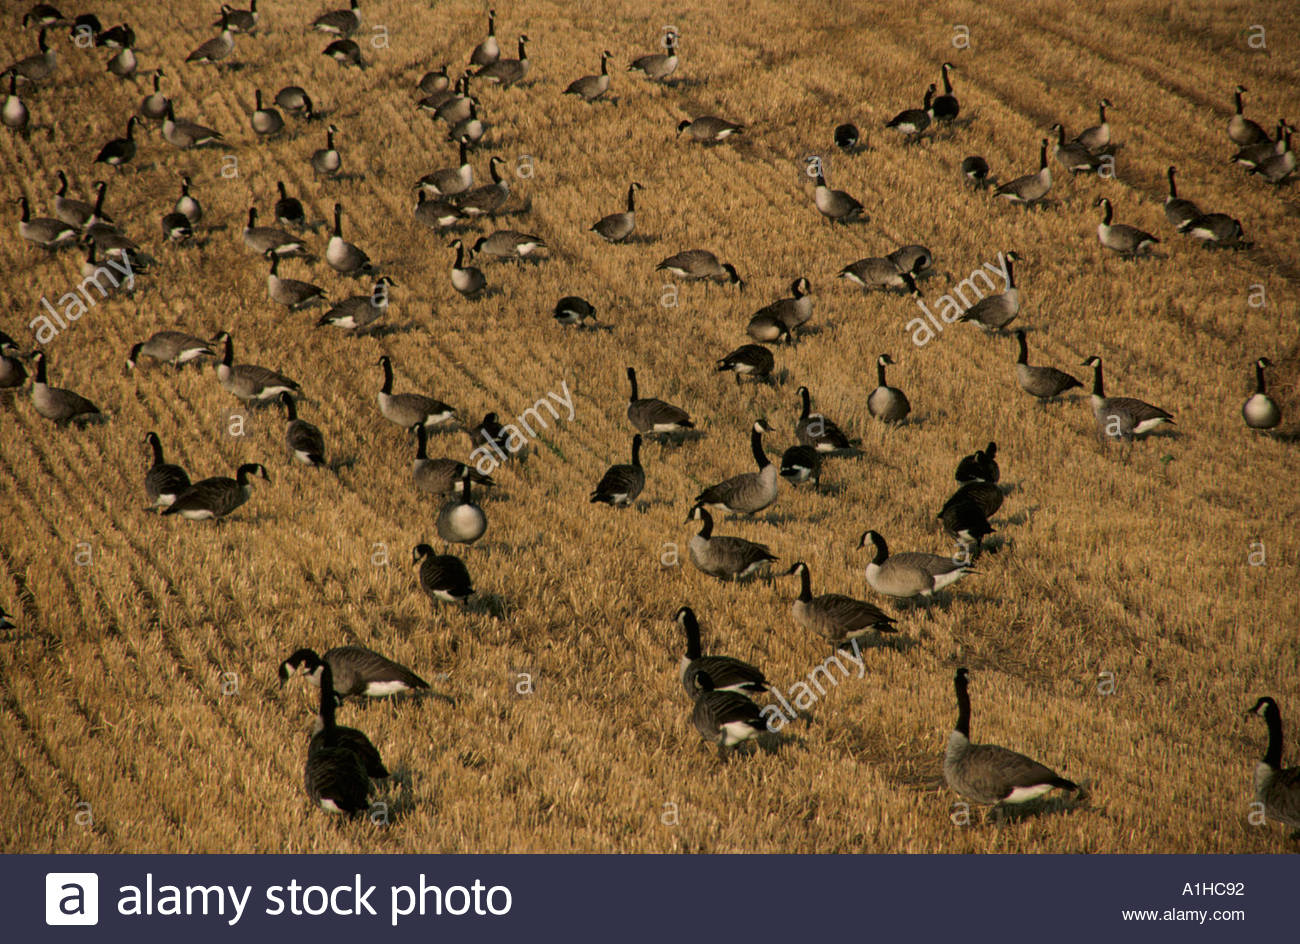goose: (934, 664, 1090, 826), (288, 660, 389, 820), (777, 560, 901, 654), (270, 643, 436, 704), (670, 604, 774, 697), (1079, 352, 1179, 448), (852, 529, 973, 607), (691, 417, 780, 517), (1239, 695, 1300, 834), (681, 674, 774, 763), (209, 325, 307, 408), (678, 502, 775, 583), (160, 458, 274, 526), (935, 447, 1001, 554), (373, 352, 461, 432), (405, 423, 497, 498), (1004, 326, 1087, 406), (958, 246, 1027, 335), (28, 347, 105, 427), (313, 271, 402, 338), (623, 363, 693, 444), (742, 272, 820, 344), (407, 541, 476, 615), (588, 432, 651, 511), (434, 462, 488, 554), (801, 153, 868, 225), (257, 247, 327, 313), (790, 385, 855, 455), (992, 136, 1055, 209), (1092, 196, 1160, 260), (136, 427, 188, 512), (119, 328, 214, 374), (276, 390, 329, 468), (12, 193, 77, 255), (321, 196, 373, 272), (1, 20, 64, 83), (588, 178, 649, 241), (1240, 354, 1287, 437), (865, 351, 912, 430), (238, 204, 306, 257), (835, 255, 920, 297), (182, 2, 238, 65), (625, 30, 687, 86), (652, 248, 744, 286), (159, 99, 227, 149), (710, 344, 784, 390), (416, 134, 475, 191), (1174, 215, 1254, 255), (885, 79, 939, 138), (468, 227, 549, 267), (1245, 124, 1298, 184), (557, 49, 615, 103), (1230, 114, 1290, 166), (1048, 121, 1102, 177), (478, 32, 534, 83), (76, 232, 120, 294), (1225, 78, 1264, 148), (951, 436, 1010, 482), (98, 110, 142, 171), (670, 114, 751, 147), (473, 408, 516, 468), (464, 155, 509, 213), (1159, 161, 1197, 225), (411, 178, 462, 225), (1077, 94, 1117, 152), (446, 236, 485, 296), (434, 67, 480, 117), (782, 442, 826, 494), (309, 1, 365, 40), (548, 291, 603, 331), (101, 21, 137, 79), (308, 122, 342, 183), (49, 166, 87, 219), (465, 8, 501, 64), (270, 179, 307, 232), (1, 68, 30, 132), (321, 36, 369, 75), (417, 71, 467, 107), (1, 329, 28, 395), (137, 66, 173, 115), (171, 175, 208, 221), (87, 175, 114, 237), (275, 84, 317, 123), (210, 1, 261, 33), (935, 59, 961, 118), (451, 97, 489, 138), (249, 86, 278, 138), (18, 4, 70, 31), (155, 209, 194, 245), (409, 62, 453, 92), (958, 154, 994, 187), (893, 243, 935, 272), (831, 120, 862, 152)
